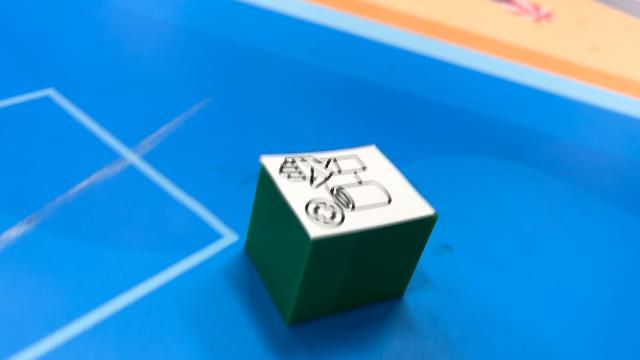bandage: (244, 143, 438, 327)
